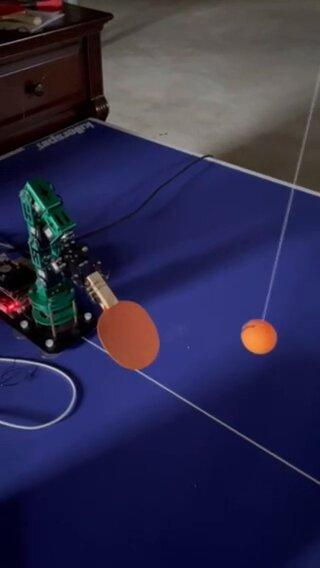oball: (246, 317, 276, 352)
